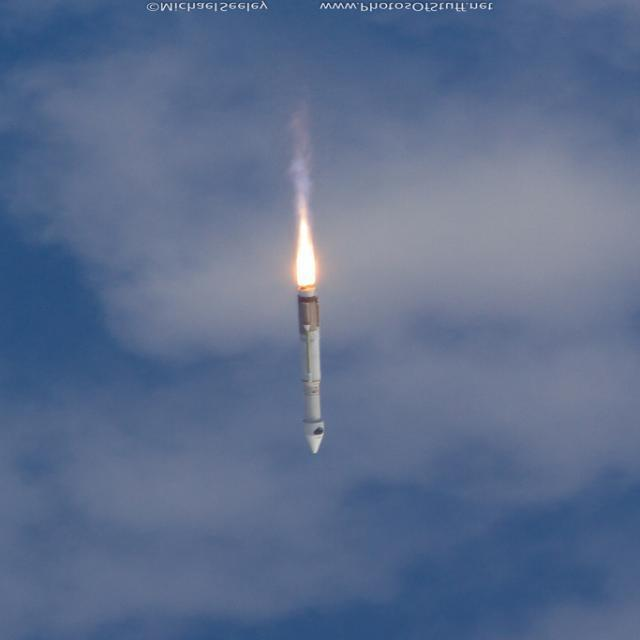missile: (296, 288, 330, 464)
